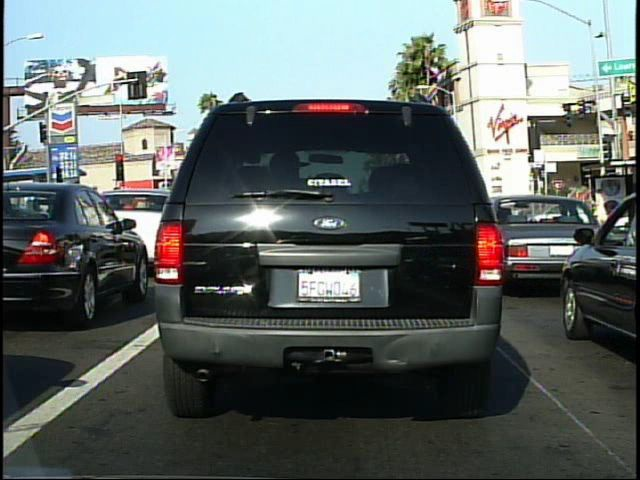person: (592, 184, 612, 243)
